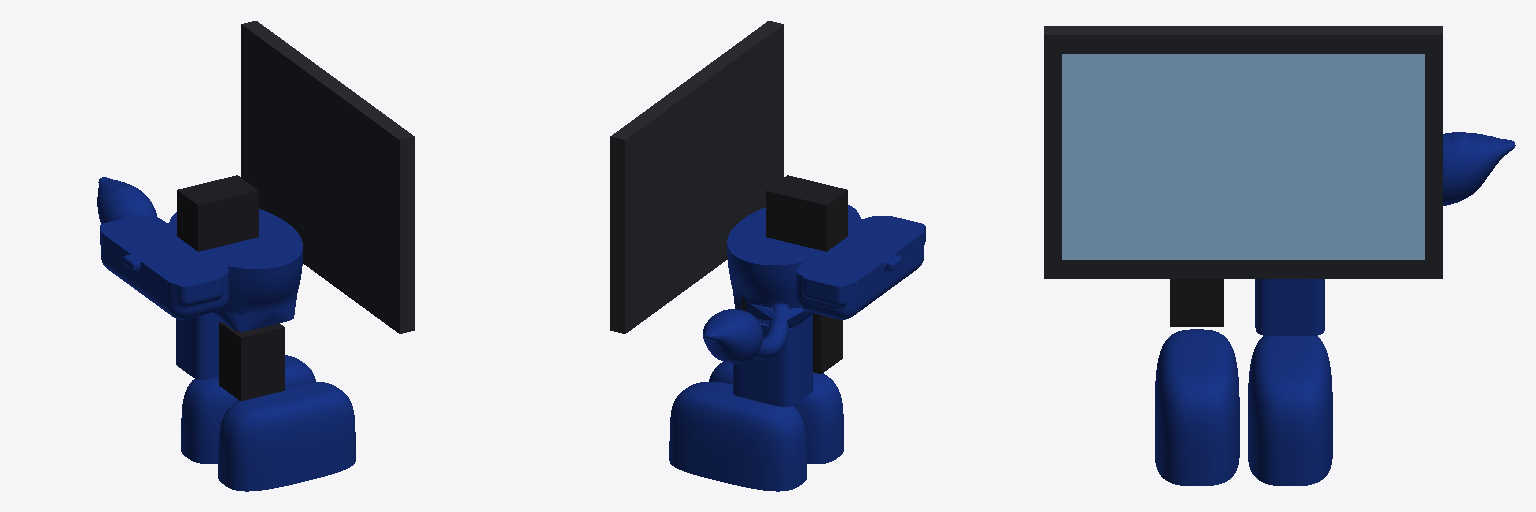
The robot description file, URDF, robot "haetburi":
<?xml version="1.0"?>
<!-- Haetburi biped (v10_split_display) - generated by tools/build_model.py, do not edit by hand -->
<robot name="haetburi">
  <mujoco>
    <compiler meshdir="." balanceinertia="true" discardvisual="false" strippath="false" fusestatic="false"/>
  </mujoco>
  <material name="display"><color rgba="0.18 0.19 0.21 1"/></material>
  <material name="screen"><color rgba="0.62 0.80 0.95 1"/></material>
  <material name="shell"><color rgba="0.106 0.216 0.541 1"/></material>
  <material name="motor"><color rgba="0.15 0.15 0.17 1"/></material>
  <material name="foot"><color rgba="0.25 0.25 0.28 1"/></material>
  <link name="world"/>
  <joint name="floating_base" type="floating">
    <parent link="world"/><child link="pelvis"/>
    <origin xyz="0 0 0" rpy="0 0 0"/>
  </joint>
  <link name="pelvis">
    <inertial>
      <origin xyz="0.00765992 0.00536325 0.0101676" rpy="0 0 0"/>
      <mass value="0.623077"/>
      <inertia ixx="0.000643368" ixy="9.25266e-05" ixz="-2.02634e-06" iyy="0.000461058" iyz="1.0316e-05" izz="0.000977788"/>
    </inertial>
    <visual><origin xyz="0 0 0" rpy="0 0 0"/><geometry><mesh filename="meshes/pelvis.stl"/></geometry><material name="shell"/></visual>
    <visual><origin xyz="0 0.0245973 0.012" rpy="0 0 0"/><geometry><box size="0.0285 0.034 0.0465"/></geometry><material name="motor"/></visual>
    <visual><origin xyz="0 -0.0245973 0.012" rpy="0 0 0"/><geometry><box size="0.0285 0.034 0.0465"/></geometry><material name="motor"/></visual>
    <collision><origin xyz="-0.021074 3.58804e-05 0.00858333" rpy="0 0 0"/><geometry><box size="0.121075 0.119859 0.0566667"/></geometry></collision>
  </link>
  <link name="torso">
    <inertial>
      <origin xyz="0.0162408 0.000358468 0.120254" rpy="0 0 0"/>
      <mass value="2.15423"/>
      <inertia ixx="0.0371033" ixy="2.54441e-05" ixz="0.00634087" iyy="0.0355679" iyz="-1.06901e-05" izz="0.0178337"/>
    </inertial>
    <visual><origin xyz="0 0 0" rpy="0 0 0"/><geometry><mesh filename="meshes/torso.stl"/></geometry><material name="shell"/></visual>
    <visual><origin xyz="-0.012 0 0.0175" rpy="0 0 0"/><geometry><box size="0.0465 0.0285 0.034"/></geometry><material name="motor"/></visual>
    <visual><origin xyz="0.0723613 0 0.0243272" rpy="0 0 0"/><geometry><box size="0.0115 0.2105 0.1423"/></geometry><material name="display"/></visual>
    <visual><origin xyz="0.0781113 0 0.0243272" rpy="0 0 0"/><geometry><box size="0.0004 0.192 0.12"/></geometry><material name="screen"/></visual>
    <collision><origin xyz="-0.0221864 5.2166e-06 0.0316642" rpy="0 0 0"/><geometry><box size="0.122843 0.119977 0.0633283"/></geometry></collision>
    <collision><origin xyz="0.0385902 0.0915483 0.0381325" rpy="0 0 0"/><geometry><sphere radius="0.0579507"/></geometry></collision>
    <collision><origin xyz="0.0386898 -0.0915509 0.0316598" rpy="0 0 0"/><geometry><sphere radius="0.0618705"/></geometry></collision>
    <collision><origin xyz="-0.000345437 0.00125387 0.0927765" rpy="0 0 0"/><geometry><sphere radius="0.123215"/></geometry></collision>
    <collision><origin xyz="-0.00629357 0.00119689 0.151662" rpy="0 0 0"/><geometry><sphere radius="0.13801"/></geometry></collision>
    <collision><origin xyz="-0.0101044 0.000763982 0.210555" rpy="0 0 0"/><geometry><sphere radius="0.13749"/></geometry></collision>
    <collision><origin xyz="-0.0141337 -0.000964858 0.269446" rpy="0 0 0"/><geometry><sphere radius="0.12172"/></geometry></collision>
    <collision><origin xyz="-0.0219239 0.00343006 0.32832" rpy="0 0 0"/><geometry><sphere radius="0.0904228"/></geometry></collision>
    <collision><origin xyz="-0.0278985 -0.00418543 0.387235" rpy="0 0 0"/><geometry><sphere radius="0.0569478"/></geometry></collision>
    <collision><origin xyz="0.0723613 0 0.0243272" rpy="0 0 0"/><geometry><box size="0.0115 0.2105 0.1423"/></geometry></collision>
  </link>
  <link name="leg_l">
    <inertial>
      <origin xyz="2.0291e-07 -3.08024e-14 -0.0441173" rpy="0 0 0"/>
      <mass value="0.104899"/>
      <inertia ixx="3.24782e-05" ixy="1.31698e-07" ixz="2.21371e-11" iyy="3.80977e-05" iyz="-7.87621e-16" izz="3.2293e-05"/>
    </inertial>
    <visual><origin xyz="0 0 0" rpy="0 0 0"/><geometry><mesh filename="meshes/leg_l.stl"/></geometry><material name="shell"/></visual>
    <visual><origin xyz="0 0 -0.04325" rpy="0 0 0"/><geometry><box size="0.034 0.0285 0.0465"/></geometry><material name="motor"/></visual>
    <collision><origin xyz="4.46236e-07 -5.20417e-18 -0.040625" rpy="0 0 0"/><geometry><box size="0.0459699 0.0369902 0.05675"/></geometry></collision>
  </link>
  <link name="ankle_l">
    <inertial>
      <origin xyz="0.0071 0 -0.029875" rpy="0 0 0"/>
      <mass value="0.05"/>
      <inertia ixx="2.33128e-05" ixy="0" ixz="0" iyy="1.65419e-05" iyz="0" izz="1.01042e-05"/>
    </inertial>
  </link>
  <link name="foot_l">
    <inertial>
      <origin xyz="0.0123209 1.64705e-18 0.00217798" rpy="0 0 0"/>
      <mass value="0.159649"/>
      <inertia ixx="7.2264e-05" ixy="-1.35405e-06" ixz="-6.22903e-08" iyy="0.000126643" iyz="-6.15597e-22" izz="0.000108018"/>
    </inertial>
    <visual><origin xyz="0 0 0" rpy="0 0 0"/><geometry><mesh filename="meshes/foot_l.stl"/></geometry><material name="shell"/></visual>
    <visual><origin xyz="0.012 0 0" rpy="0 0 0"/><geometry><box size="0.0465 0.034 0.0285"/></geometry><material name="motor"/></visual>
    <collision><origin xyz="0 0 0" rpy="0 0 0"/><geometry><mesh filename="meshes/foot_l.stl"/></geometry></collision>
  </link>
  <link name="leg_r">
    <inertial>
      <origin xyz="-2.0291e-07 -3.07993e-14 -0.0441173" rpy="0 0 0"/>
      <mass value="0.104899"/>
      <inertia ixx="3.24782e-05" ixy="1.31698e-07" ixz="-2.21372e-11" iyy="3.80977e-05" iyz="-7.87621e-16" izz="3.2293e-05"/>
    </inertial>
    <visual><origin xyz="0 0 0" rpy="0 0 0"/><geometry><mesh filename="meshes/leg_r.stl"/></geometry><material name="shell"/></visual>
    <visual><origin xyz="0 0 -0.04325" rpy="0 0 0"/><geometry><box size="0.034 0.0285 0.0465"/></geometry><material name="motor"/></visual>
    <collision><origin xyz="-4.46236e-07 1.73472e-18 -0.040625" rpy="0 0 0"/><geometry><box size="0.0459699 0.0369902 0.05675"/></geometry></collision>
  </link>
  <link name="ankle_r">
    <inertial>
      <origin xyz="0.0071 0 -0.029875" rpy="0 0 0"/>
      <mass value="0.05"/>
      <inertia ixx="2.33128e-05" ixy="0" ixz="0" iyy="1.65419e-05" iyz="0" izz="1.01042e-05"/>
    </inertial>
  </link>
  <link name="foot_r">
    <inertial>
      <origin xyz="0.0123209 -1.6525e-18 0.00217798" rpy="0 0 0"/>
      <mass value="0.159649"/>
      <inertia ixx="7.2264e-05" ixy="1.35405e-06" ixz="-6.22903e-08" iyy="0.000126643" iyz="9.37374e-22" izz="0.000108018"/>
    </inertial>
    <visual><origin xyz="0 0 0" rpy="0 0 0"/><geometry><mesh filename="meshes/foot_r.stl"/></geometry><material name="shell"/></visual>
    <visual><origin xyz="0.012 -0 0" rpy="0 0 0"/><geometry><box size="0.0465 0.034 0.0285"/></geometry><material name="motor"/></visual>
    <collision><origin xyz="0 0 0" rpy="0 0 0"/><geometry><mesh filename="meshes/foot_r.stl"/></geometry></collision>
  </link>
  <joint name="waist_yaw" type="revolute">
    <parent link="pelvis"/><child link="torso"/>
    <origin xyz="0 0 0.0369167" rpy="0 0 0"/>
    <axis xyz="0 0 1"/>
    <limit lower="-1.0472" upper="1.0472" effort="1.4" velocity="5.97"/>
    <dynamics damping="0.1" friction="0.04"/>
  </joint>
  <joint name="hip_pitch_l" type="revolute">
    <parent link="pelvis"/><child link="leg_l"/>
    <origin xyz="0 0.0245973 0" rpy="0 0 0"/>
    <axis xyz="0 1 0"/>
    <limit lower="-0.785398" upper="0.785398" effort="1.4" velocity="5.97"/>
    <dynamics damping="0.1" friction="0.04"/>
  </joint>
  <joint name="hip_pitch_r" type="revolute">
    <parent link="pelvis"/><child link="leg_r"/>
    <origin xyz="0 -0.0245973 0" rpy="0 0 0"/>
    <axis xyz="0 1 0"/>
    <limit lower="-0.785398" upper="0.785398" effort="1.4" velocity="5.97"/>
    <dynamics damping="0.1" friction="0.04"/>
  </joint>
  <joint name="ankle_roll_l" type="revolute">
    <parent link="leg_l"/><child link="ankle_l"/>
    <origin xyz="0 0 -0.05525" rpy="0 0 0"/>
    <axis xyz="1 0 0"/>
    <limit lower="-0.20944" upper="0.20944" effort="1.4" velocity="5.97"/>
    <dynamics damping="0.1" friction="0.04"/>
  </joint>
  <joint name="ankle_roll_r" type="revolute">
    <parent link="leg_r"/><child link="ankle_r"/>
    <origin xyz="0 0 -0.05525" rpy="0 0 0"/>
    <axis xyz="1 0 0"/>
    <limit lower="-0.20944" upper="0.20944" effort="1.4" velocity="5.97"/>
    <dynamics damping="0.1" friction="0.04"/>
  </joint>
  <joint name="ankle_pitch_l" type="revolute">
    <parent link="ankle_l"/><child link="foot_l"/>
    <origin xyz="0.0142 0 -0.05975" rpy="0 0 0"/>
    <axis xyz="0 1 0"/>
    <limit lower="-0.261799" upper="0.261799" effort="1.4" velocity="5.97"/>
    <dynamics damping="0.1" friction="0.04"/>
  </joint>
  <joint name="ankle_pitch_r" type="revolute">
    <parent link="ankle_r"/><child link="foot_r"/>
    <origin xyz="0.0142 0 -0.05975" rpy="0 0 0"/>
    <axis xyz="0 1 0"/>
    <limit lower="-0.261799" upper="0.261799" effort="1.4" velocity="5.97"/>
    <dynamics damping="0.1" friction="0.04"/>
  </joint>
</robot>

--- Render facts (derived) ---
The picture shows the robot from 3 angles, left to right: view 1: azimuth 30°, elevation 25°; view 2: azimuth 150°, elevation 25°; view 3: azimuth 270°, elevation 25°; orthographic projection.
Robot: haetburi — 9 links, 8 joints (7 revolute, 1 floating); root link world; default pose: every joint at zero.
Visible links, largest first — view 1: torso, pelvis, foot_r, leg_r, foot_l, leg_l; view 2: torso, pelvis, foot_l, leg_l, foot_r, leg_r; view 3: torso, foot_r, foot_l, leg_l, pelvis, leg_r.
Link boxes in pixels (x1=…): torso: x1=177, y1=21, x2=414, y2=333; pelvis: x1=97, y1=177, x2=302, y2=331; foot_r: x1=218, y1=382, x2=355, y2=491; leg_r: x1=219, y1=322, x2=284, y2=400; foot_l: x1=181, y1=355, x2=315, y2=463; leg_l: x1=176, y1=313, x2=221, y2=379; torso: x1=610, y1=21, x2=847, y2=333; pelvis: x1=703, y1=205, x2=925, y2=363; foot_l: x1=669, y1=382, x2=806, y2=491; leg_l: x1=733, y1=315, x2=812, y2=406; foot_r: x1=709, y1=362, x2=843, y2=463; leg_r: x1=813, y1=313, x2=842, y2=373; torso: x1=1044, y1=26, x2=1442, y2=278; foot_r: x1=1155, y1=329, x2=1239, y2=485; foot_l: x1=1248, y1=336, x2=1332, y2=485; leg_l: x1=1255, y1=279, x2=1324, y2=335; pelvis: x1=1443, y1=132, x2=1515, y2=205; leg_r: x1=1170, y1=279, x2=1223, y2=326.
Bounding box of the posed robot: 0.1599 × 0.2488 × 0.2646 m (x, y, z).
Meshes: 6 distinct files referenced, 4 mesh visuals loaded (4 binary STL); not drawn: 2 (reference not matched to a file when rendering).
